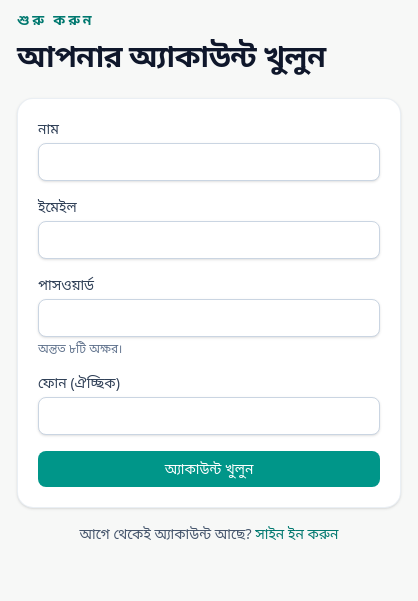
Test: RegisterPage in Bangla › says in Bangla when something unexpected fails
This screenshot has width=418, height=601.
Type "Rina" into the field labelled "নাম" at x=209, y=162, box [38,143,380,181]
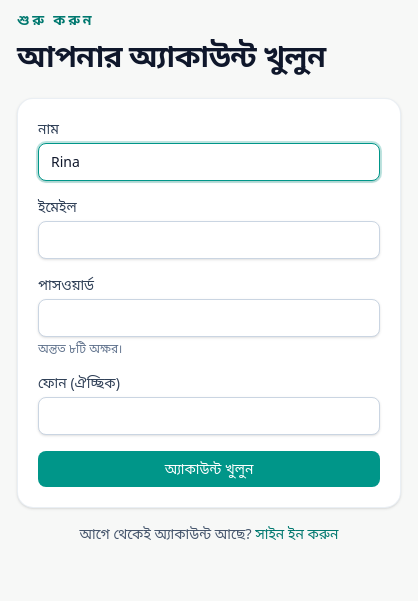
Type "rina@e.com" into the field labelled "ইমেইল" at x=209, y=240, box [38,221,380,259]
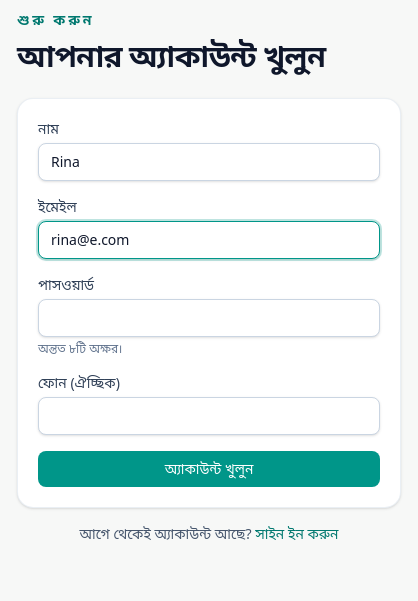
Type "CorrectHorse9" into the password field labelled "পাসওয়ার্ড" at x=209, y=318, box [38,299,380,337]
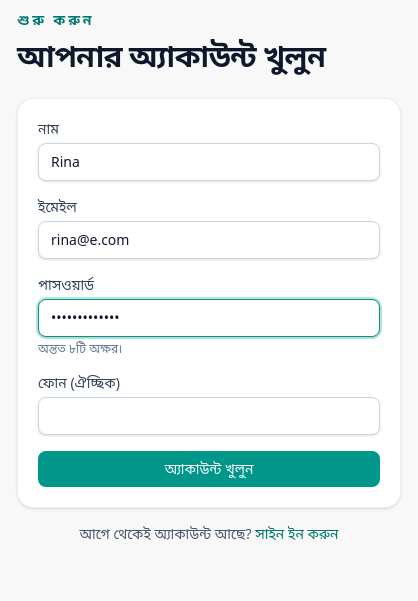
Click the button "অ্যাকাউন্ট খুলুন" at x=209, y=469, box [38,451,380,487]
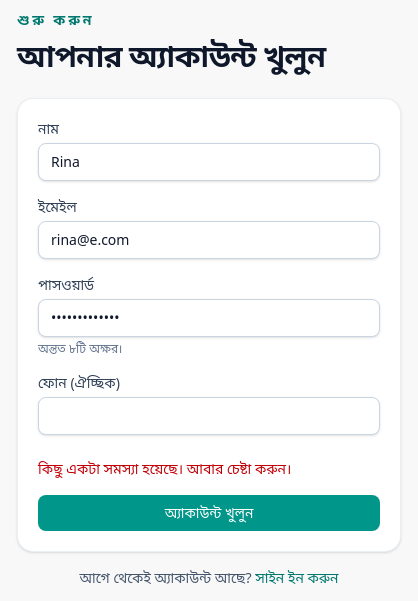
expect the text "কিছু একটা সমস্যা হয়েছে। আবার চেষ্টা করুন।" is shown: met, box [38,459,291,478]
